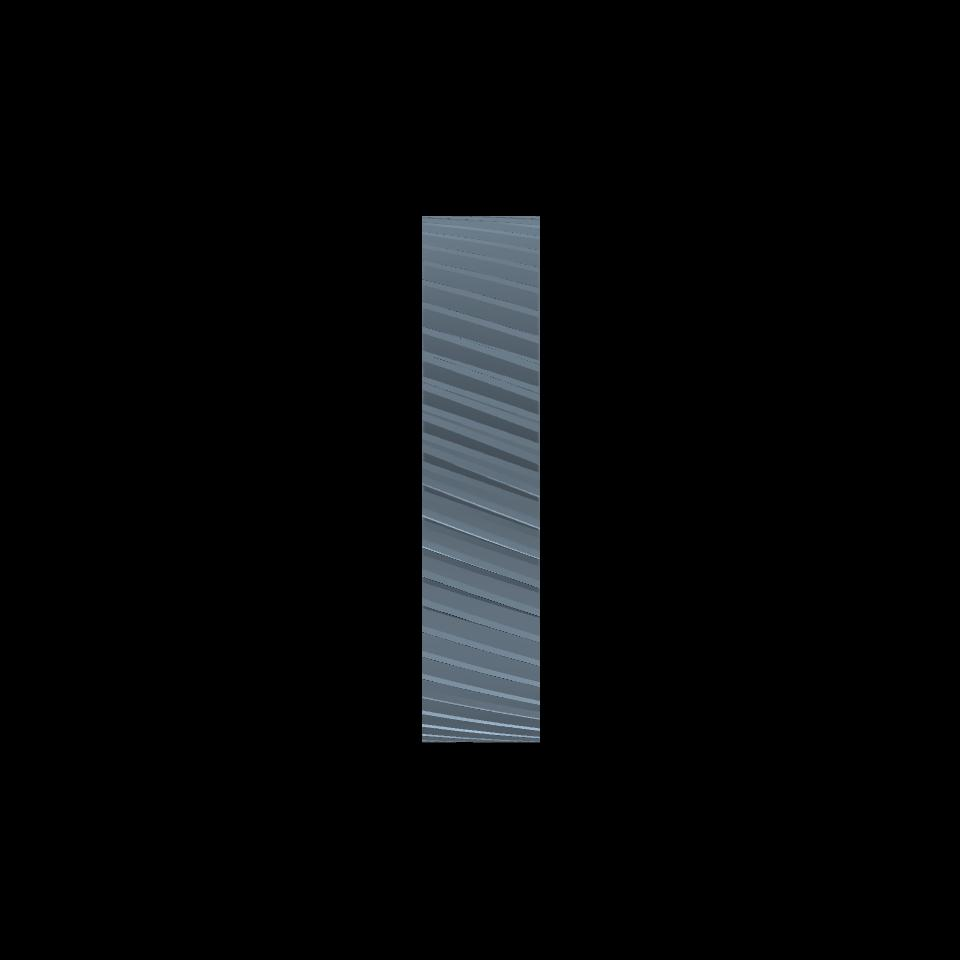Helical: (422, 216, 540, 741)
